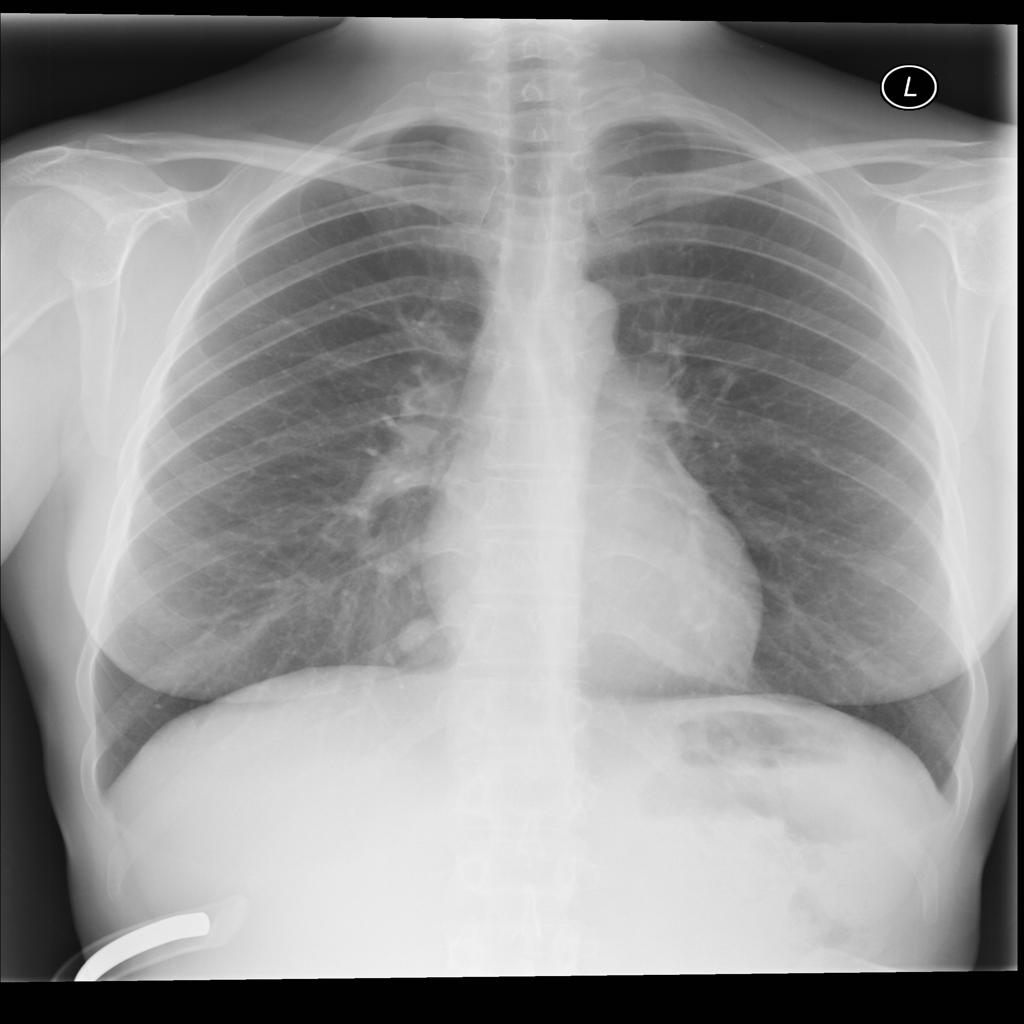nodule: (380, 605, 458, 671)
